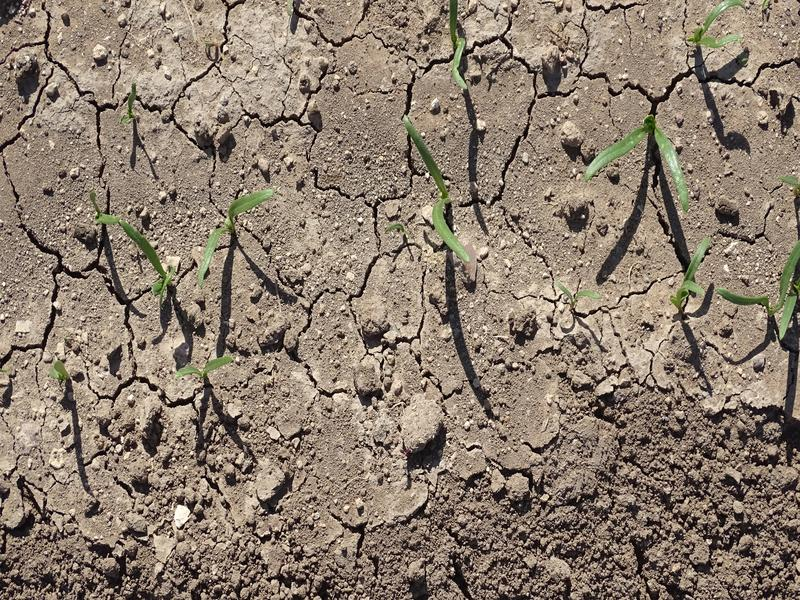Espinaca: (581, 113, 699, 209), (402, 120, 475, 263), (200, 180, 280, 279), (93, 209, 178, 295), (717, 251, 800, 339), (681, 1, 748, 50), (447, 1, 474, 97), (666, 239, 704, 305), (176, 351, 233, 385)
